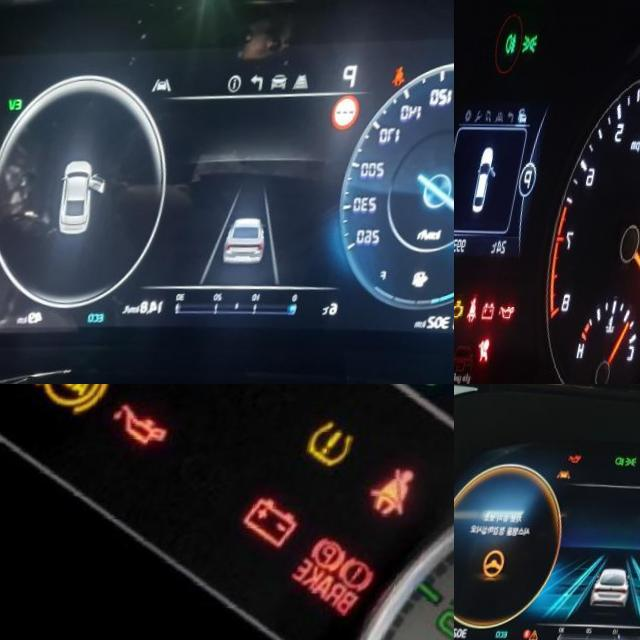Central Warning lamp: (546, 628, 556, 640)
FrontFogLight: (511, 31, 525, 53)
LaneCenteringOff: (160, 76, 182, 92), (568, 468, 583, 478)
Low beam: (625, 454, 636, 464)
SideLamp: (528, 31, 546, 52), (634, 453, 640, 465)
